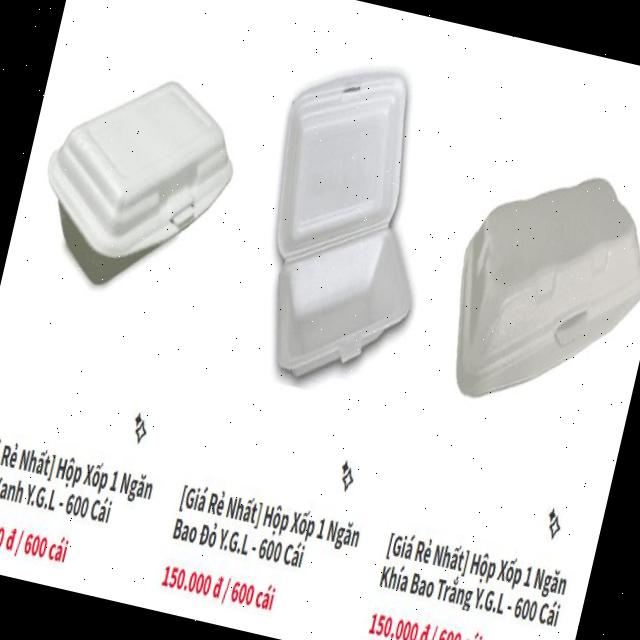styrofoam: (228, 44, 462, 400), (432, 147, 640, 429), (23, 53, 250, 310)
